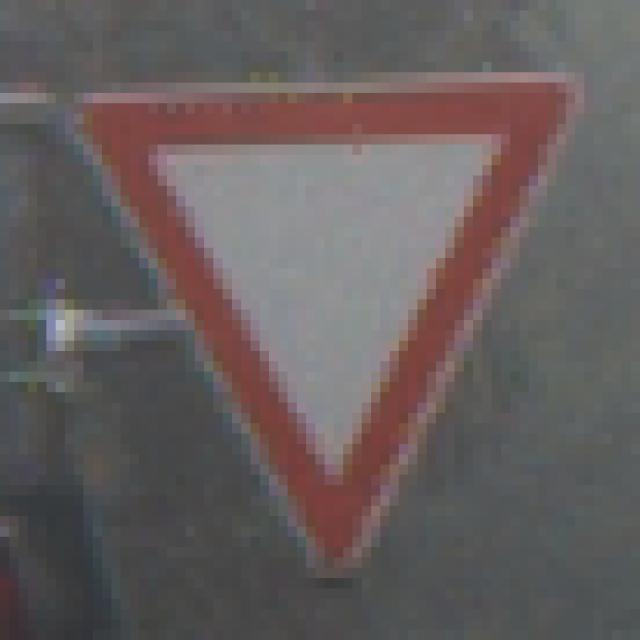Give Way: (57, 53, 585, 590)
